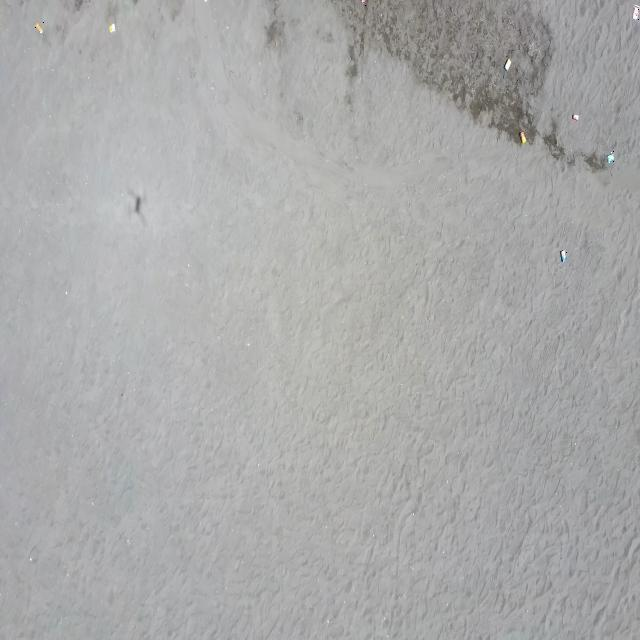Garbage: (632, 4, 639, 20), (504, 57, 511, 70), (33, 22, 42, 32), (520, 129, 526, 143), (607, 150, 613, 163), (560, 248, 566, 261), (108, 23, 115, 32), (572, 114, 579, 120), (360, 0, 366, 5)
